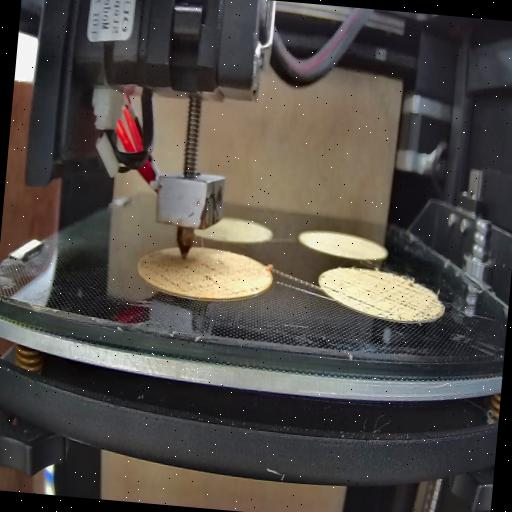under_extrusion: (140, 263, 264, 301), (342, 277, 440, 319), (320, 282, 340, 298)
